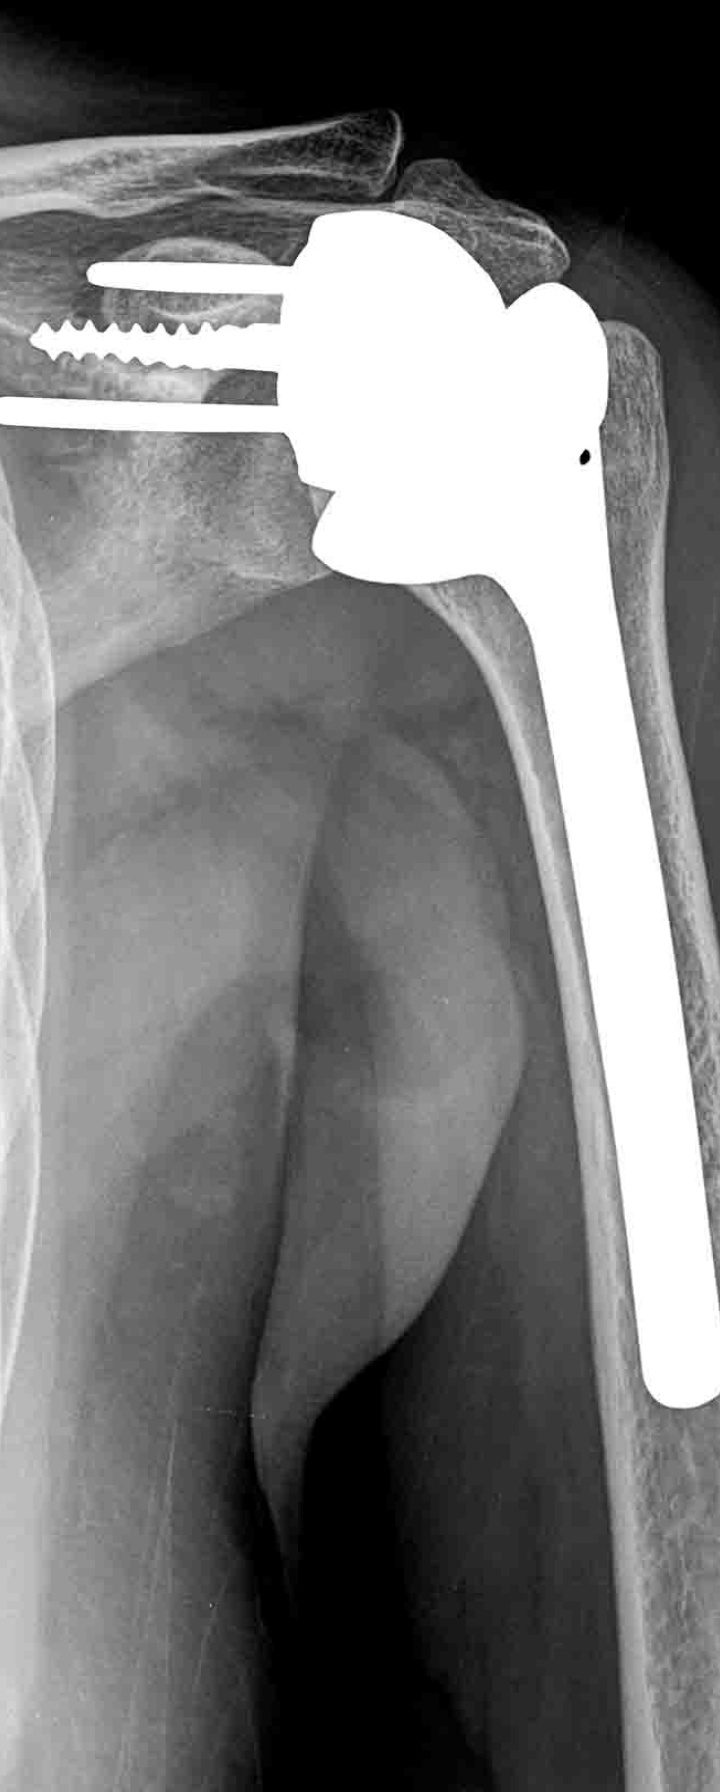Shoulder-Reverse-DJO: (1, 179, 719, 1418)
